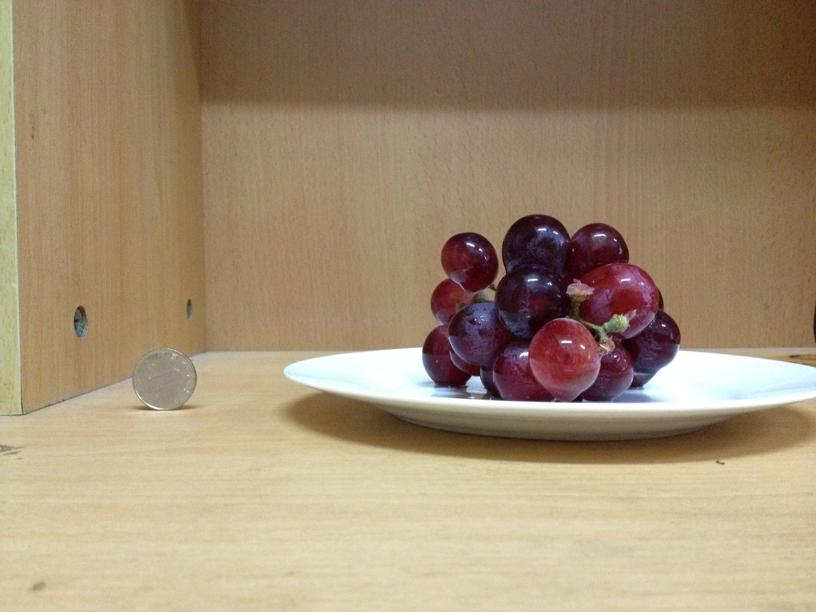coin: (132, 348, 196, 411)
grape: (422, 210, 681, 402)
